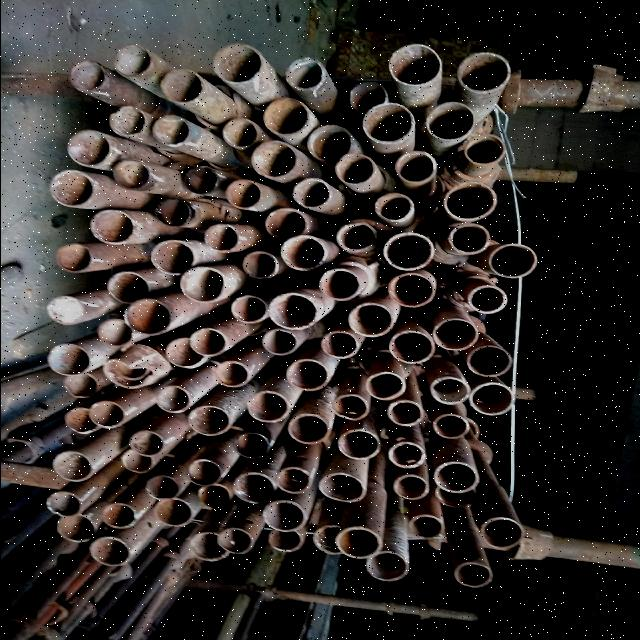pipe: (458, 50, 511, 94), (383, 232, 435, 274), (390, 44, 442, 86), (444, 182, 498, 222), (363, 103, 413, 143), (102, 355, 154, 393), (426, 101, 474, 142), (212, 44, 262, 83), (488, 244, 538, 280), (270, 294, 316, 332), (260, 98, 308, 134), (346, 302, 394, 338), (306, 126, 354, 162), (334, 525, 382, 560), (280, 234, 324, 272), (124, 299, 170, 335), (388, 274, 436, 308), (468, 383, 516, 417), (90, 209, 134, 246), (317, 471, 367, 503), (66, 130, 108, 168), (178, 268, 222, 304), (252, 142, 296, 178), (389, 332, 434, 366), (150, 240, 192, 276), (160, 68, 202, 104), (186, 404, 230, 438), (51, 170, 93, 205), (433, 319, 478, 351), (106, 272, 148, 306), (319, 268, 361, 302), (394, 150, 436, 184), (464, 132, 506, 166), (245, 390, 288, 423), (232, 472, 276, 504), (263, 500, 307, 532), (338, 429, 382, 461), (163, 337, 206, 369), (434, 463, 478, 494), (265, 207, 305, 241), (448, 222, 488, 256), (88, 536, 130, 568), (48, 344, 90, 376), (284, 57, 326, 89), (286, 360, 328, 392), (368, 550, 410, 582), (152, 198, 196, 228), (374, 193, 416, 224), (311, 524, 349, 558), (51, 451, 91, 483), (46, 295, 86, 327), (149, 114, 189, 146), (348, 80, 390, 110), (466, 285, 508, 315), (482, 518, 524, 548), (189, 533, 229, 564), (288, 415, 328, 446), (338, 222, 378, 253), (334, 153, 374, 184), (68, 60, 106, 92), (230, 294, 268, 326), (54, 513, 94, 543), (110, 160, 150, 190), (260, 327, 300, 357), (364, 371, 404, 401), (428, 376, 470, 404), (86, 402, 126, 431), (114, 45, 150, 77), (242, 250, 278, 282), (56, 243, 94, 273), (94, 317, 132, 347), (454, 562, 494, 590), (222, 119, 258, 150), (217, 526, 254, 556), (188, 328, 225, 358), (108, 106, 144, 136), (154, 498, 190, 528), (225, 180, 261, 210), (212, 360, 250, 388), (201, 224, 239, 252), (332, 394, 370, 422), (320, 332, 358, 360), (386, 442, 424, 470), (188, 458, 222, 488), (100, 502, 136, 530), (44, 490, 80, 518), (60, 371, 96, 399), (293, 180, 329, 208), (183, 166, 216, 196), (63, 407, 99, 434), (434, 414, 470, 441), (156, 386, 188, 416), (144, 474, 178, 502), (235, 432, 269, 460), (388, 401, 422, 429), (196, 485, 232, 511), (392, 475, 428, 501), (277, 468, 311, 495), (269, 529, 303, 555), (408, 514, 444, 538), (128, 431, 162, 456), (122, 450, 152, 476)
